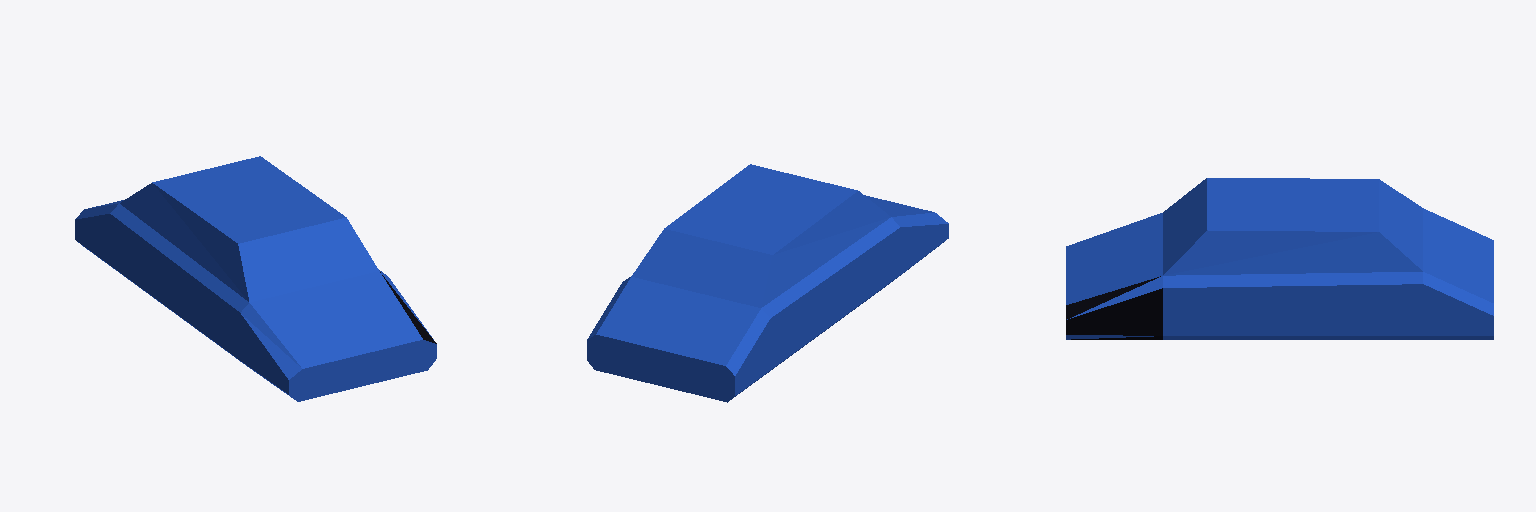
The model's file is vehicle_sedan_simple.obj.
3 renders of one model, left to right at view 1: azimuth 30°, elevation 25°; view 2: azimuth 150°, elevation 25°; view 3: azimuth 270°, elevation 25°, orthographic.
Bounding box in the file's own units: 1.94 × 1.3 × 4.85.